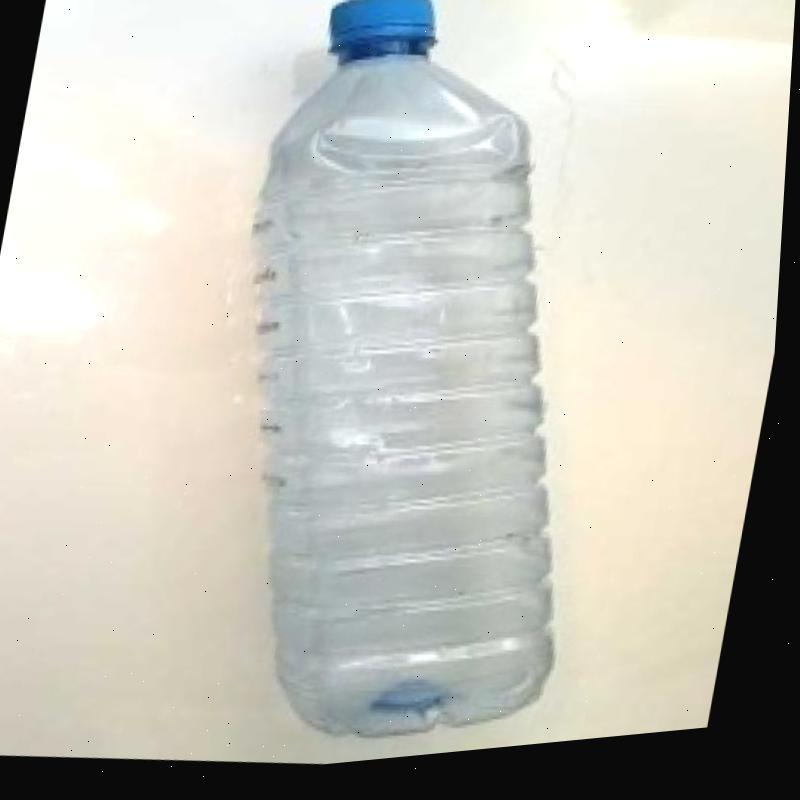botella: (163, 0, 678, 785)
